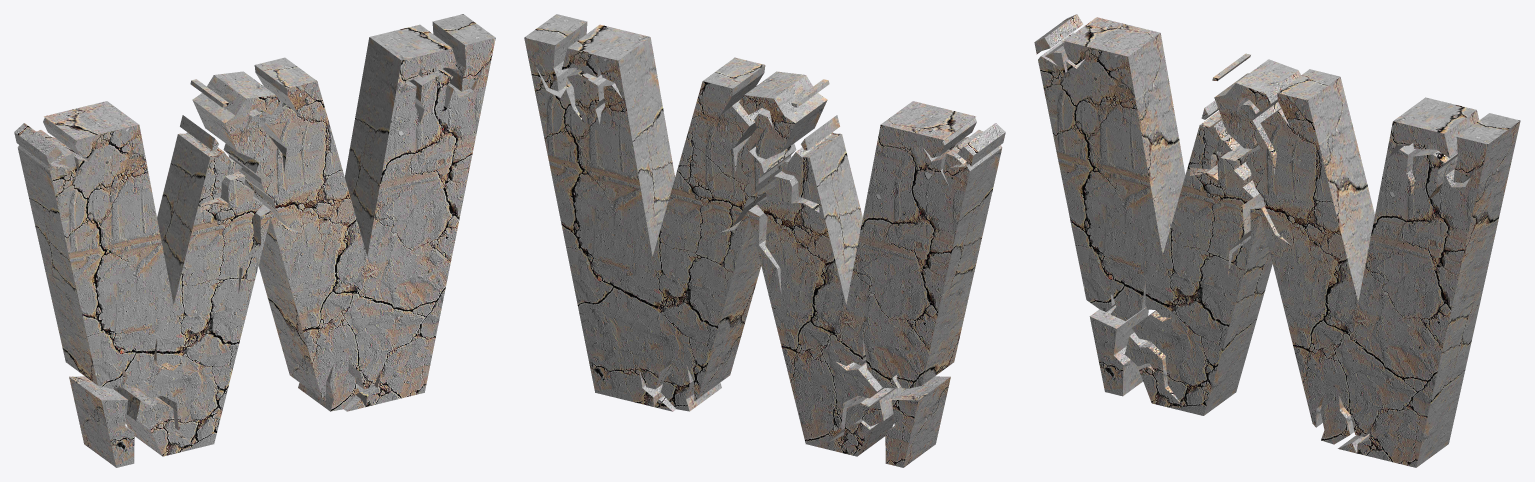
The picture shows the model from 3 angles, left to right: view 1: azimuth 30°, elevation 25°; view 2: azimuth 150°, elevation 25°; view 3: azimuth 330°, elevation 25°; orthographic projection.
Parts seen in each view (by area): view 1: W; view 2: W; view 3: W.
Boxes of the visible parts, box(x1,y1,x2,y2) form: W: box(14, 14, 495, 467); W: box(524, 14, 1005, 467); W: box(1034, 14, 1520, 467).
Size of the model in its own units: 120 by 86.36 by 15.
1 material, 1 textured.
